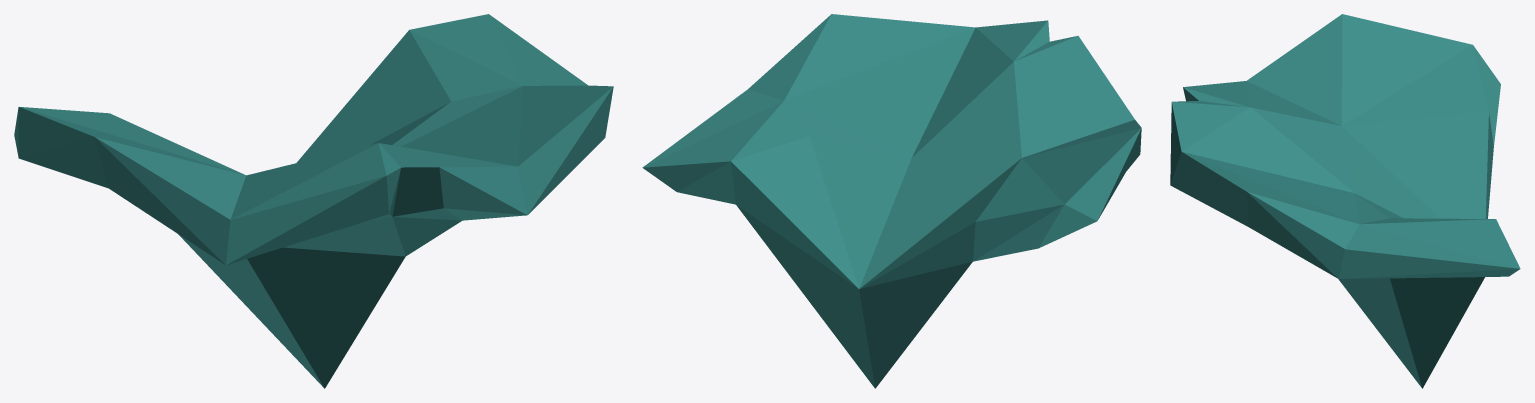
Rendered from SM_Coral_Plate_D.fbx.
The picture shows the model from 3 angles, left to right: view 1: azimuth 30°, elevation 25°; view 2: azimuth 150°, elevation 25°; view 3: azimuth 270°, elevation 25°; orthographic projection. The views are drawn at different scales.
Visible parts, largest first — view 1: coral-plate-d; view 2: coral-plate-d; view 3: coral-plate-d.
Boxes of the visible parts, <box> form: coral-plate-d: <box>14,14,613,388</box>; coral-plate-d: <box>642,14,1141,388</box>; coral-plate-d: <box>1170,14,1520,388</box>.
Bounding box in the file's own units: 0.6737 × 0.4435 × 0.5197.
